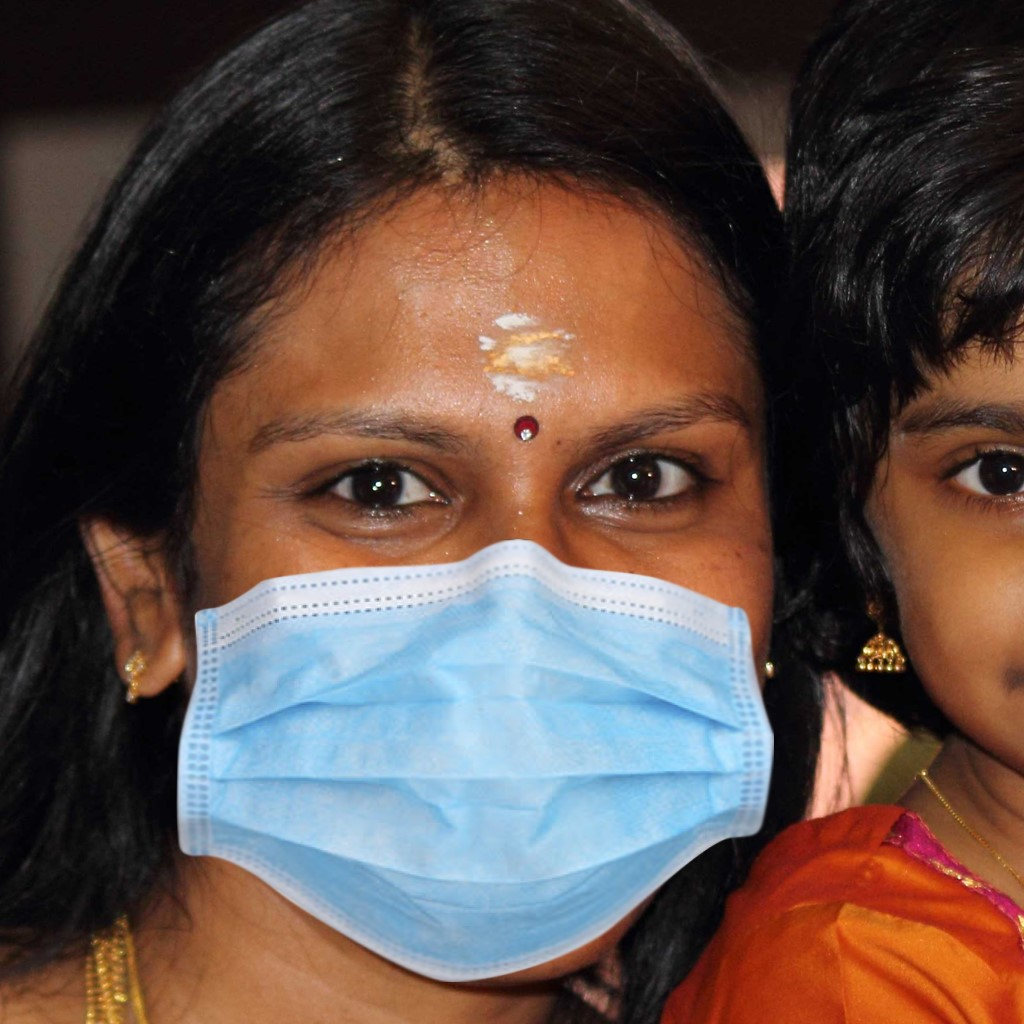con_mascara: (169, 83, 782, 975)
